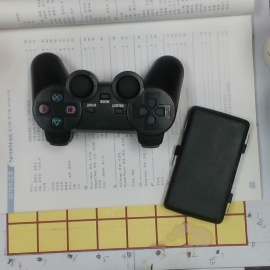remote: (30, 51, 184, 149)
